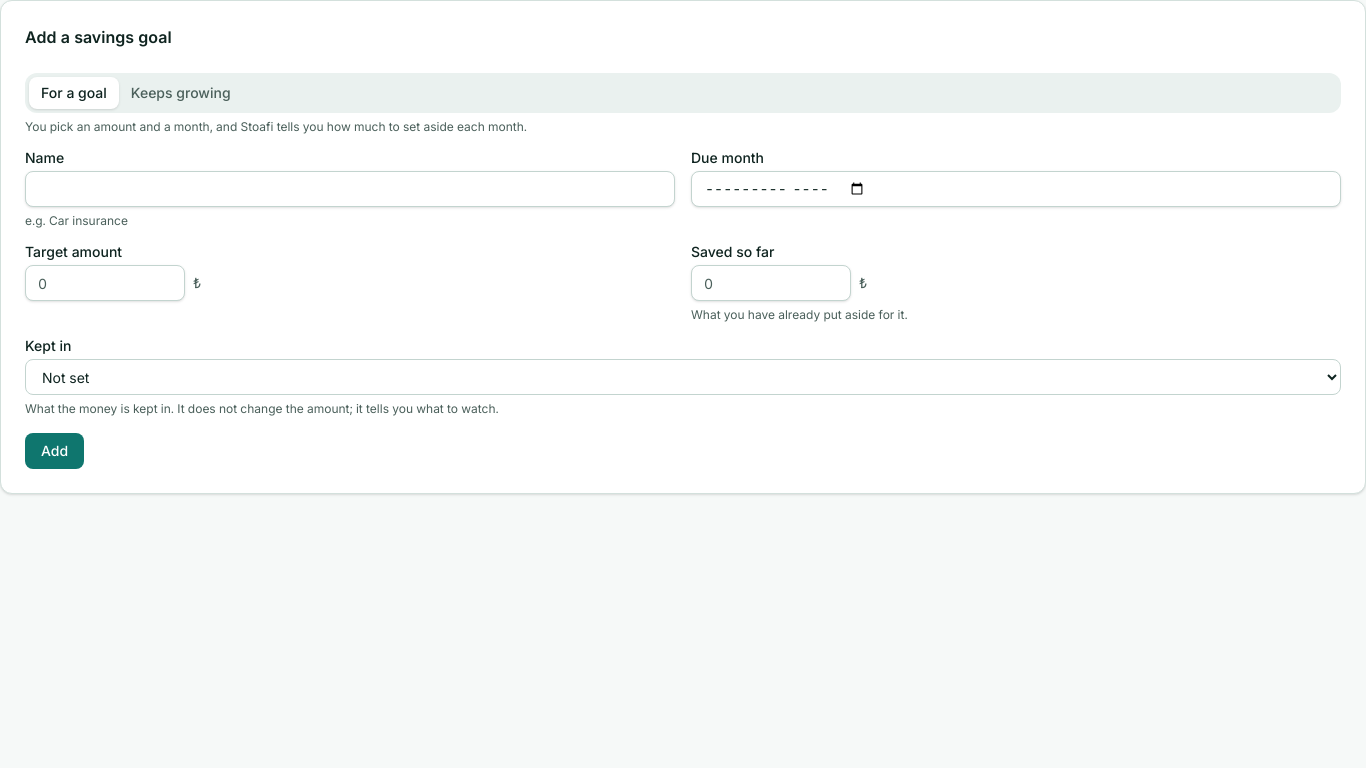
Test: SinkingFundForm › explains each missing field and submits nothing
Click the button "Add": (55, 451) x1=25 y1=433 x2=84 y2=469
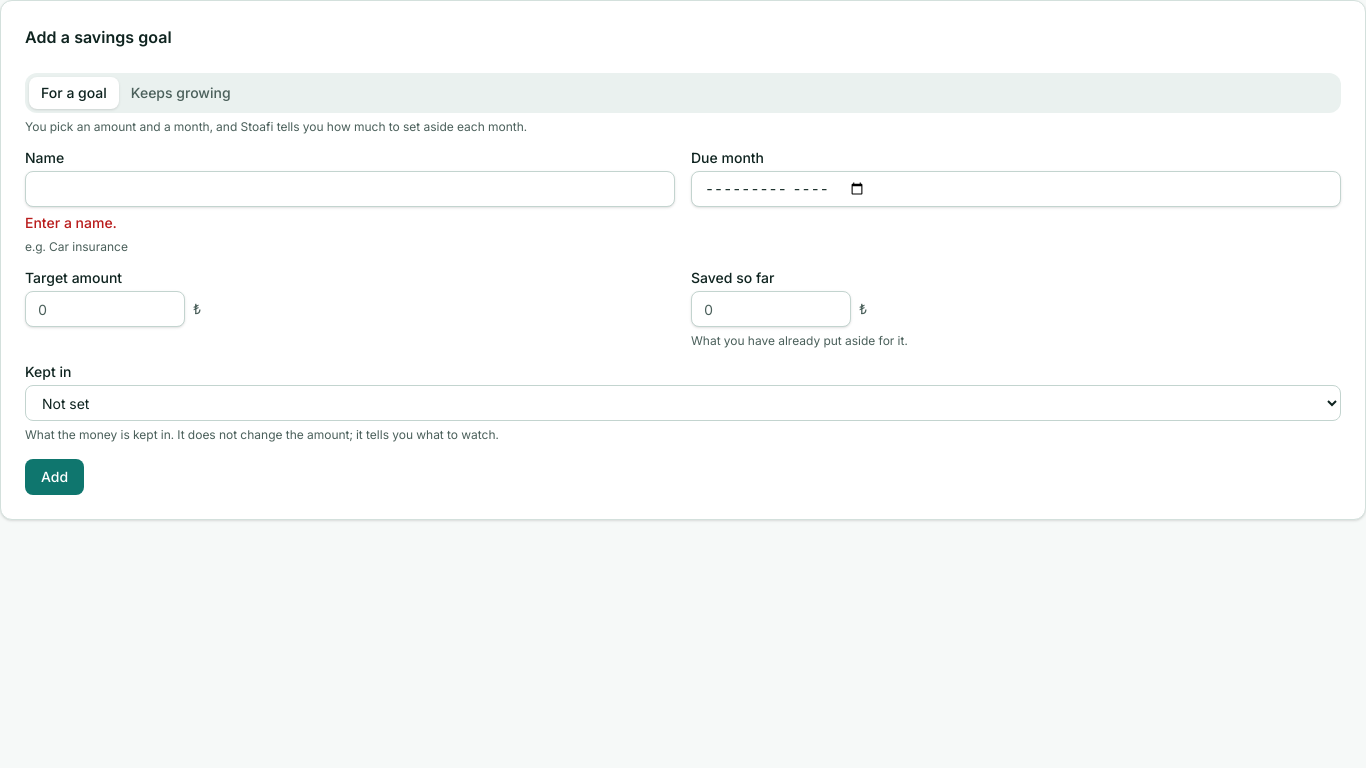
Result: the text "Enter a name." is shown at x1=25 y1=214 x2=116 y2=231
In the field labelled "Name": (350, 189) x1=25 y1=171 x2=675 y2=207, type "Trip"
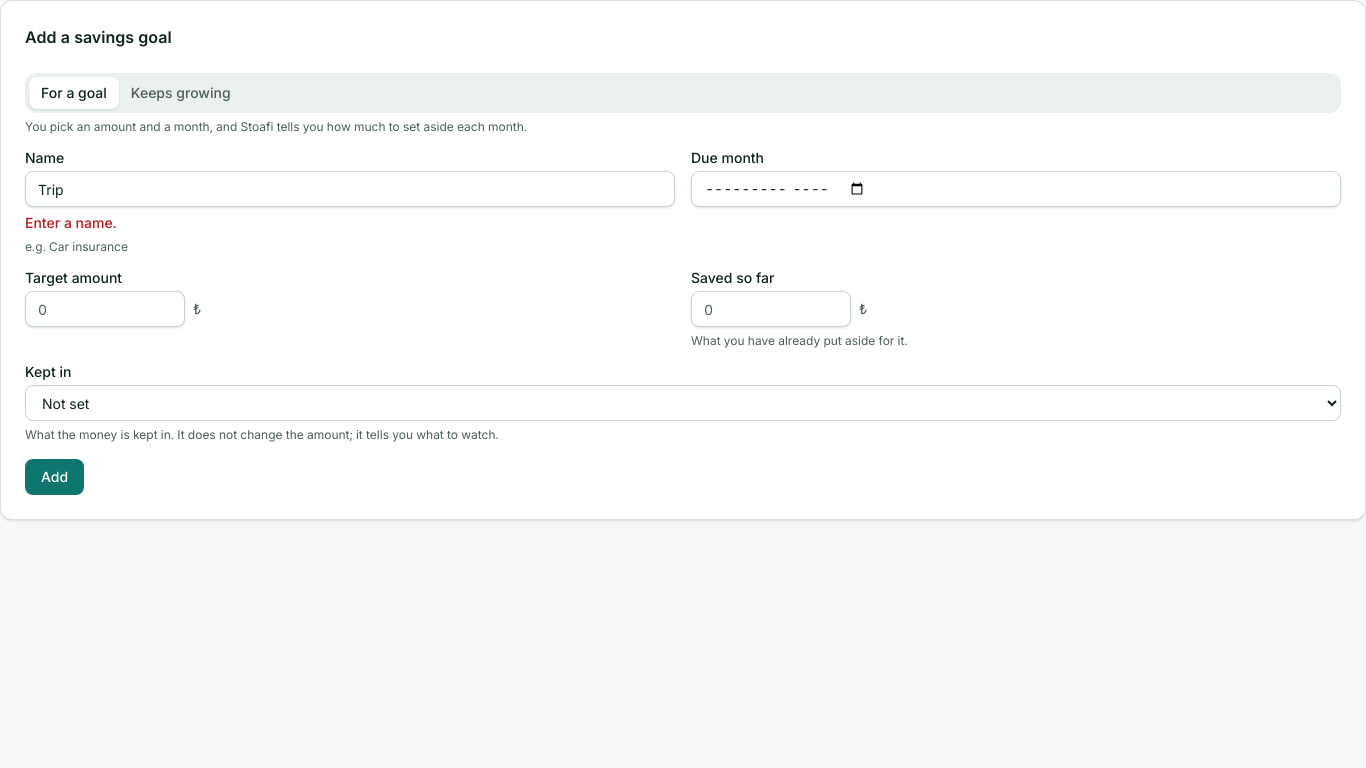
Click the button "Add": (55, 477) x1=25 y1=459 x2=84 y2=495
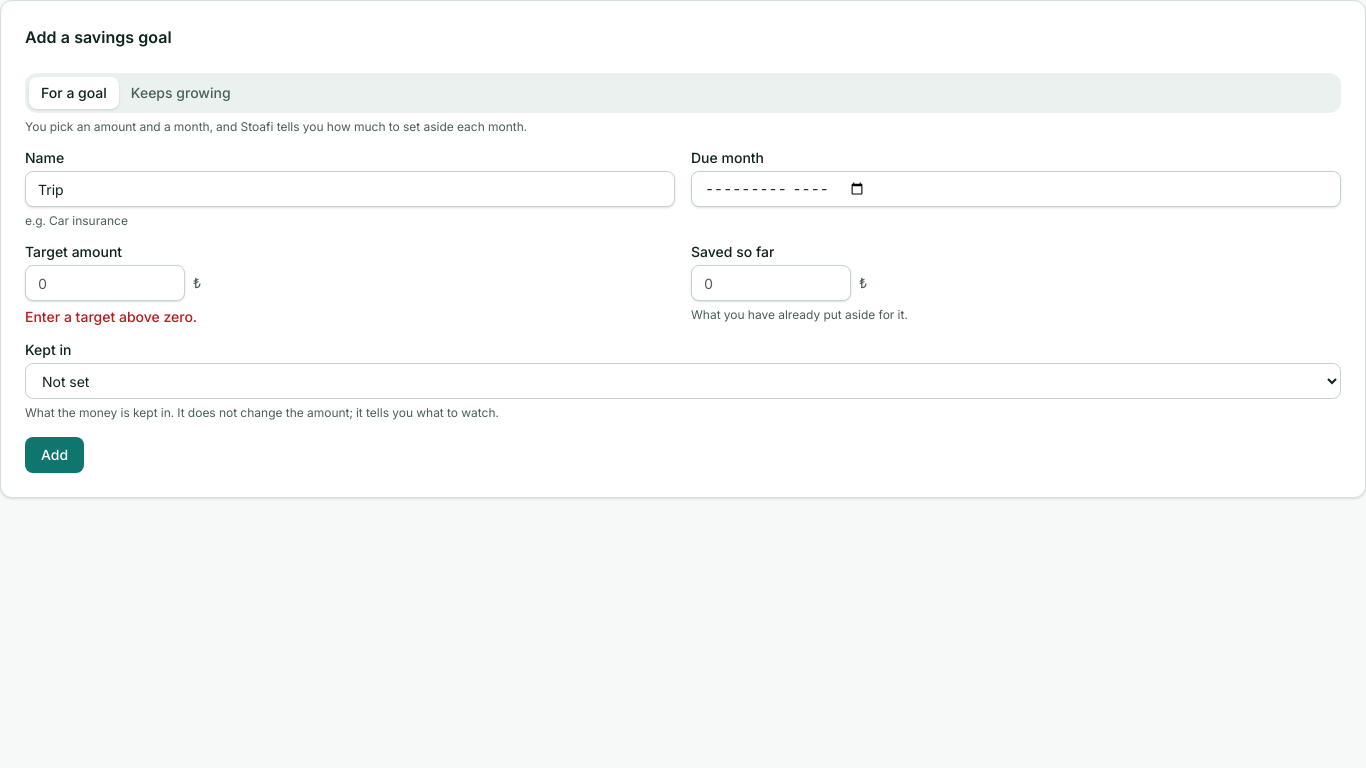
Result: the text "Enter a target above zero." is shown at x1=25 y1=308 x2=197 y2=325
In the field labelled "Target amount": (105, 283) x1=25 y1=265 x2=185 y2=301, type "100"
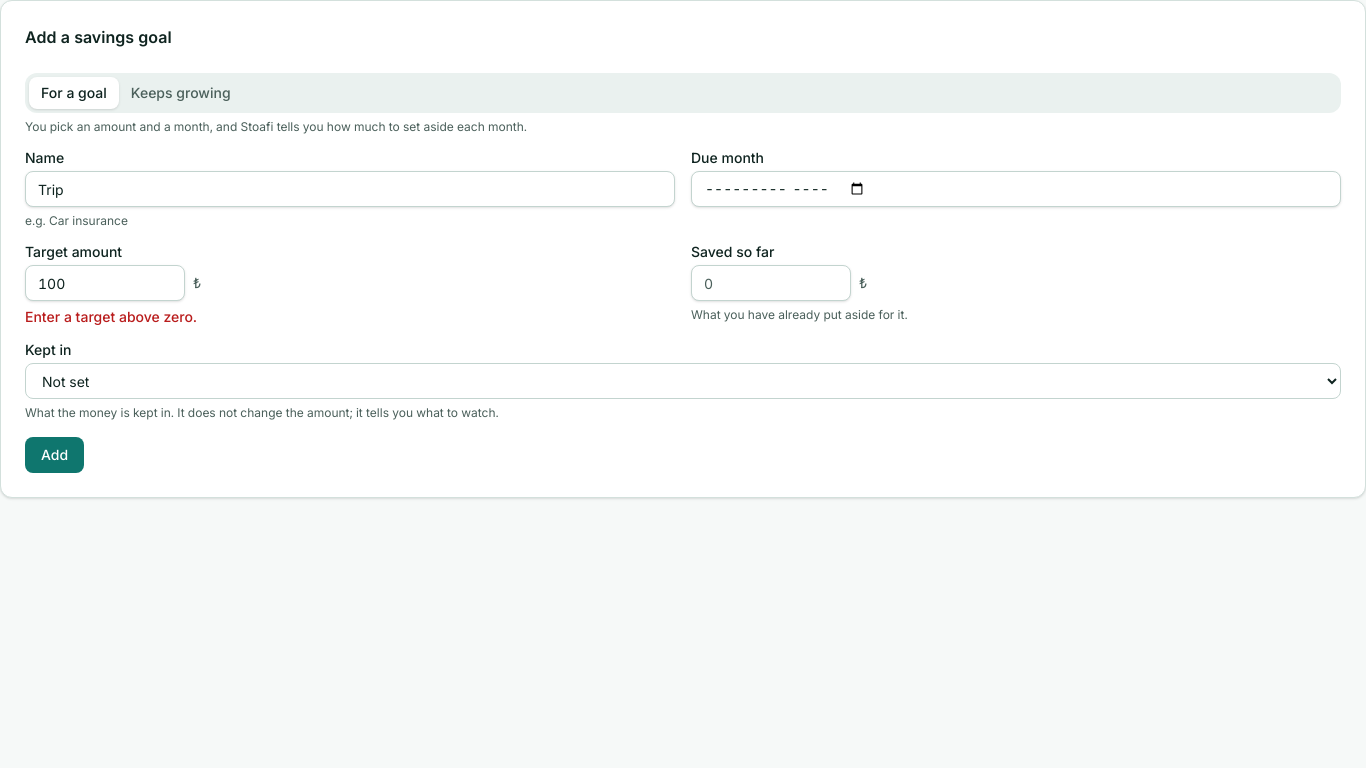
Click the button "Add": (55, 455) x1=25 y1=437 x2=84 y2=473
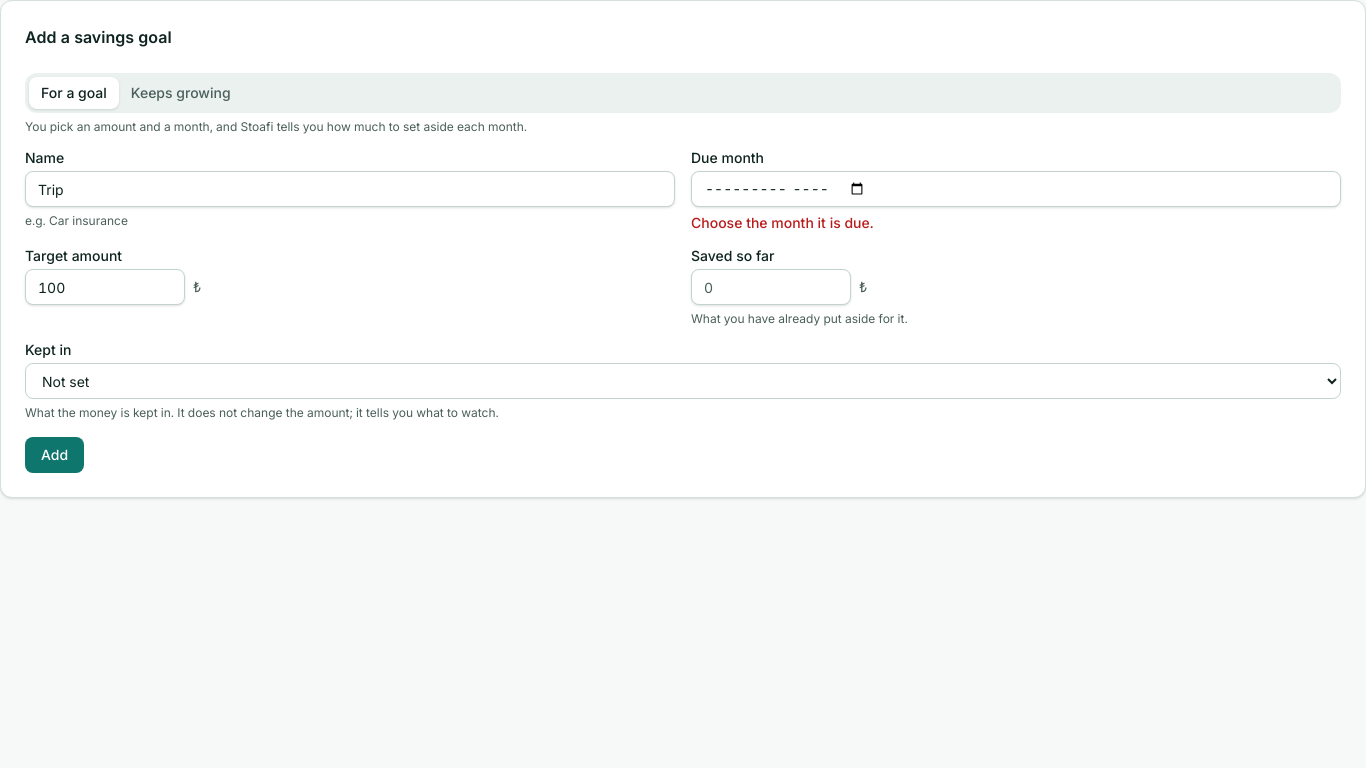
Result: the text "Choose the month it is due." is shown at x1=691 y1=214 x2=874 y2=231
